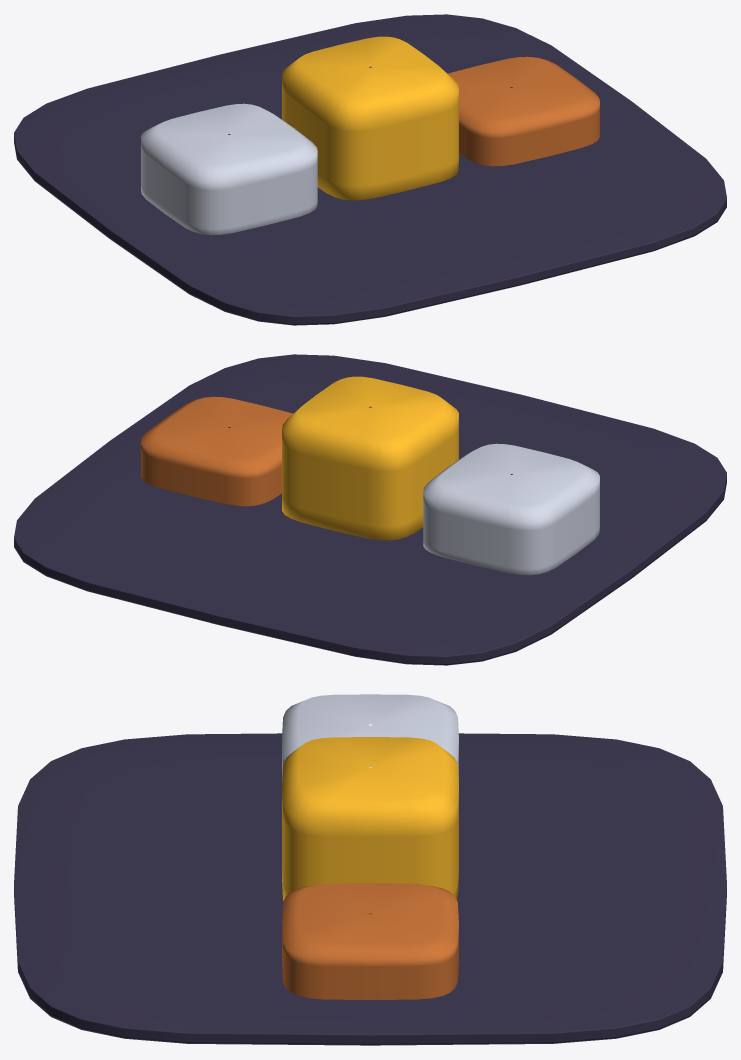
File: podium.glb
3 renders of one model, top to bottom at view 1: azimuth 30°, elevation 25°; view 2: azimuth 150°, elevation 25°; view 3: azimuth 270°, elevation 25°, orthographic. The views are drawn at different scales.
Parts seen in each view (by area): view 1: podium; view 2: podium; view 3: podium.
Boxes of the visible parts, x1=… form: podium: x1=14, y1=14, x2=726, y2=325; podium: x1=14, y1=354, x2=726, y2=665; podium: x1=14, y1=694, x2=726, y2=1045.
Size of the model in its own units: 5 by 1 by 5.
